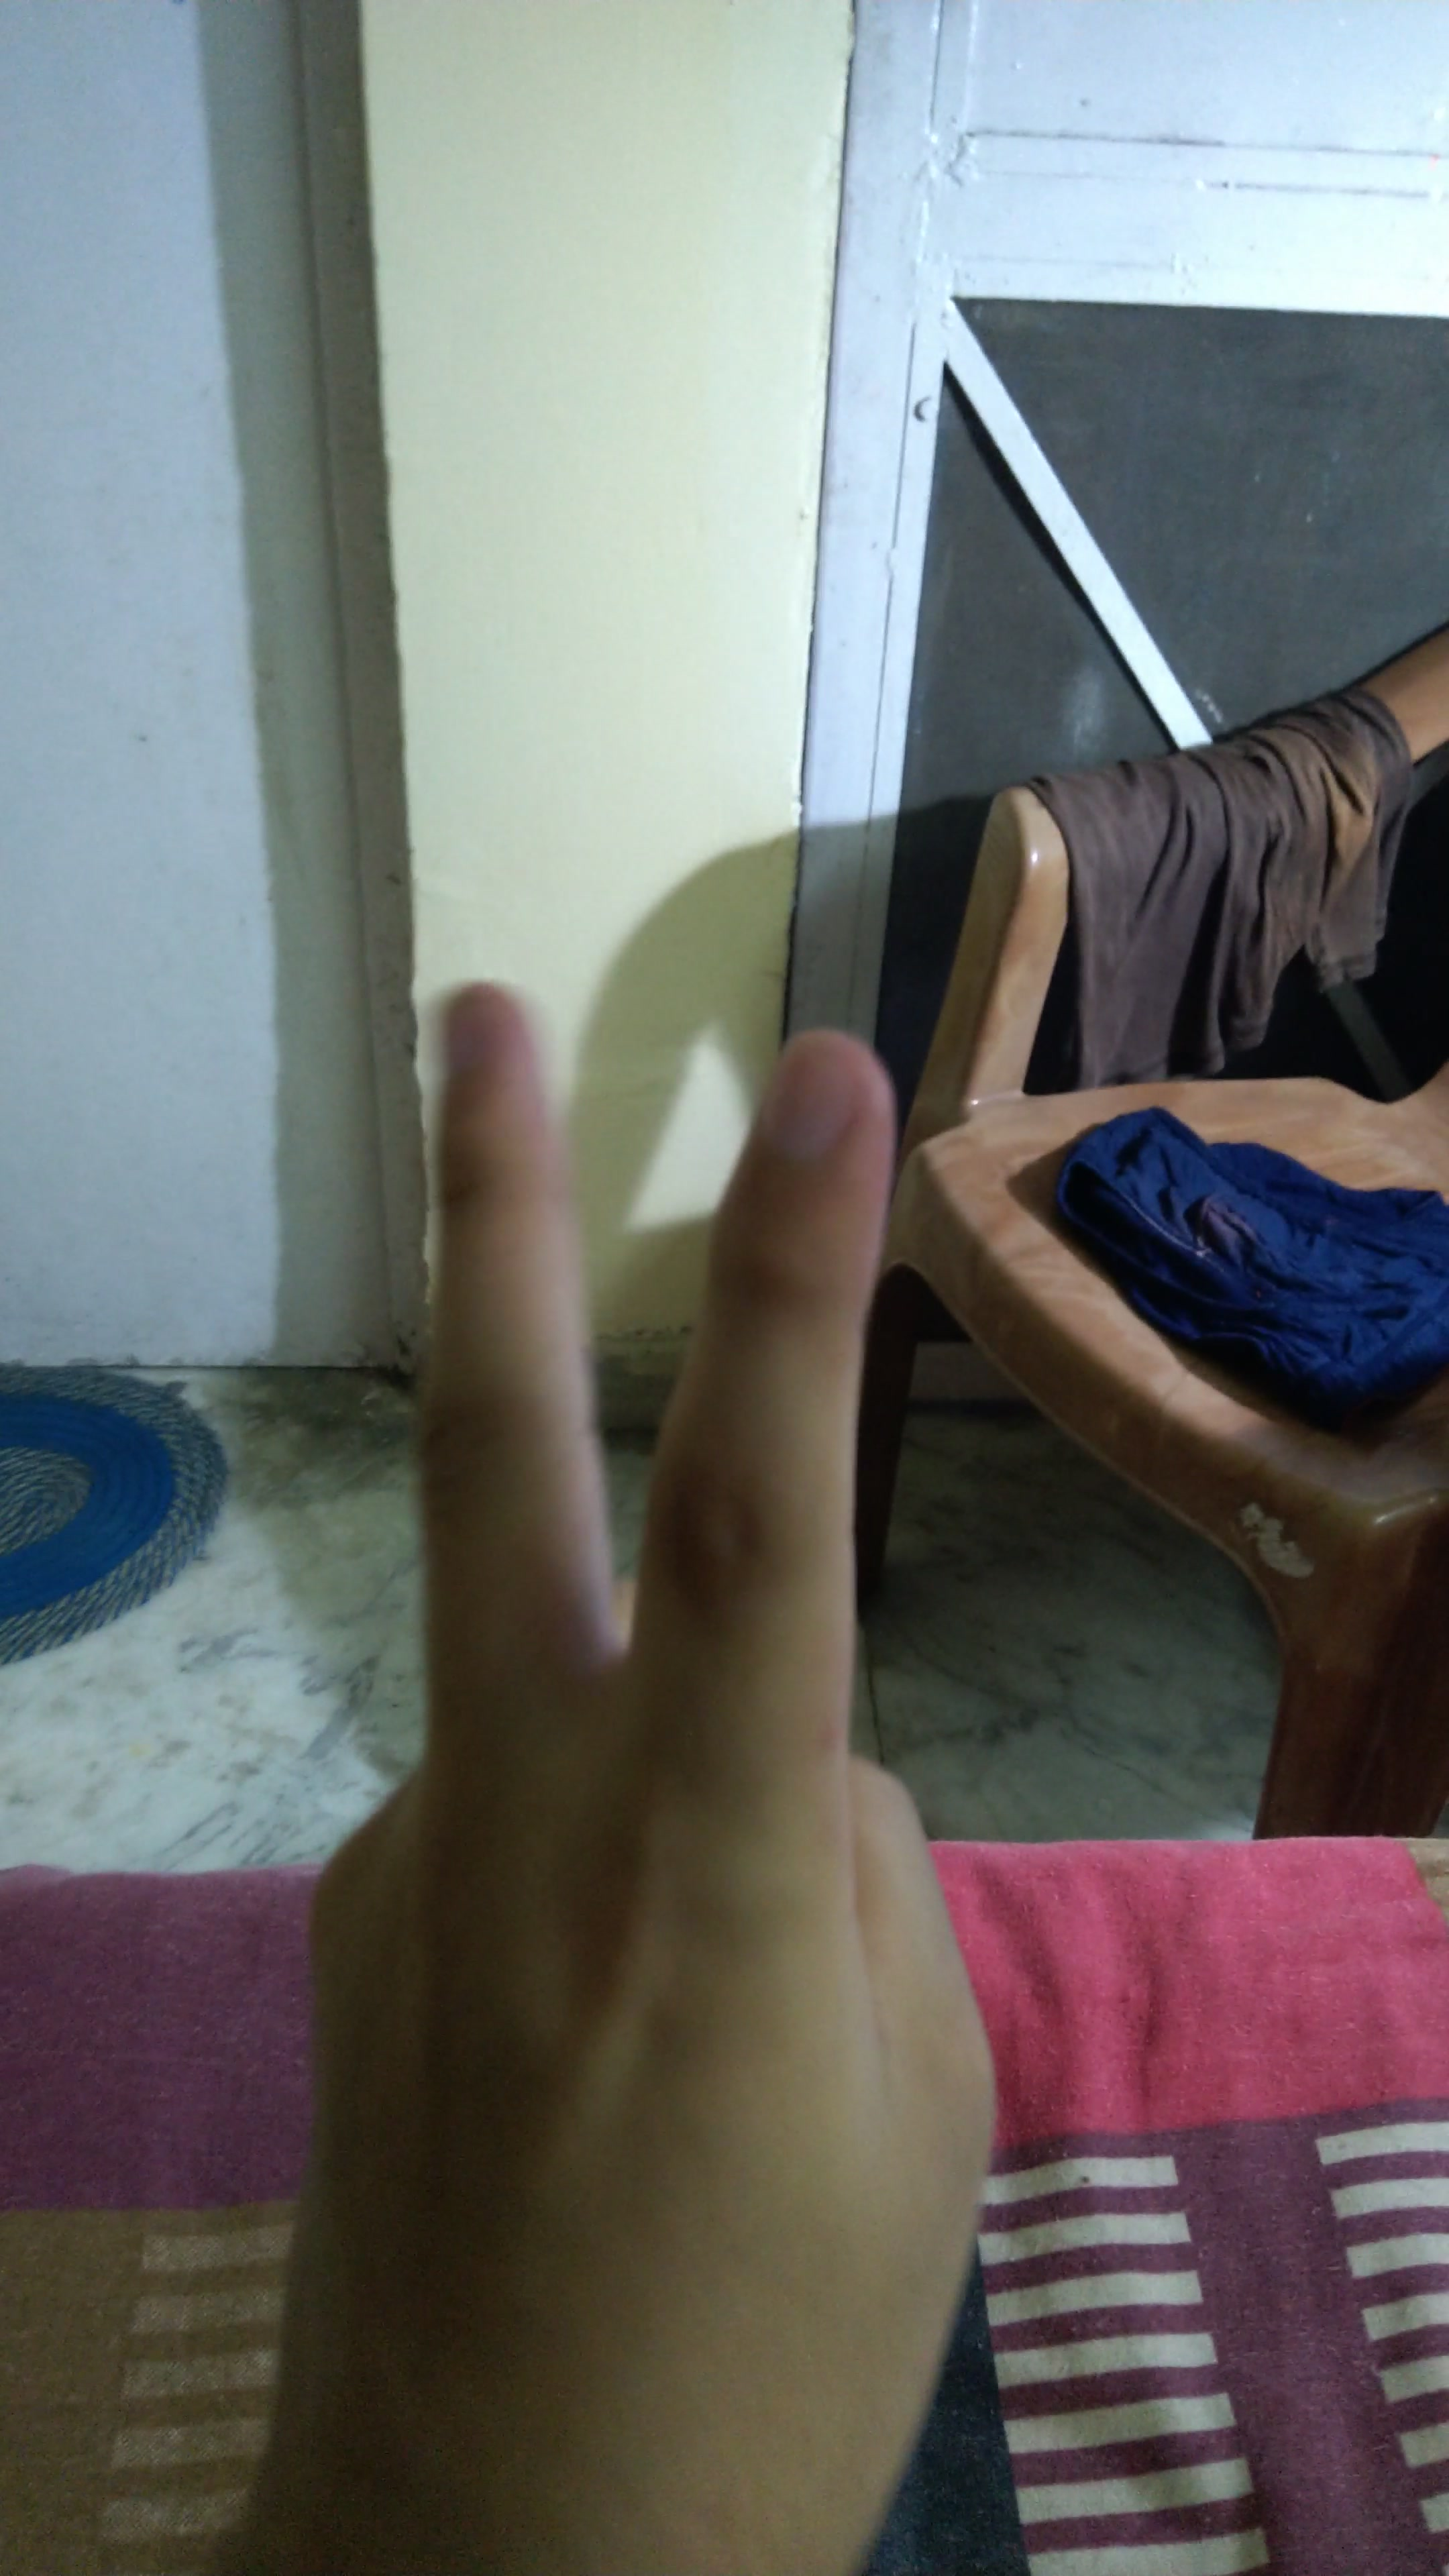hand: (133, 955, 1180, 2518)
